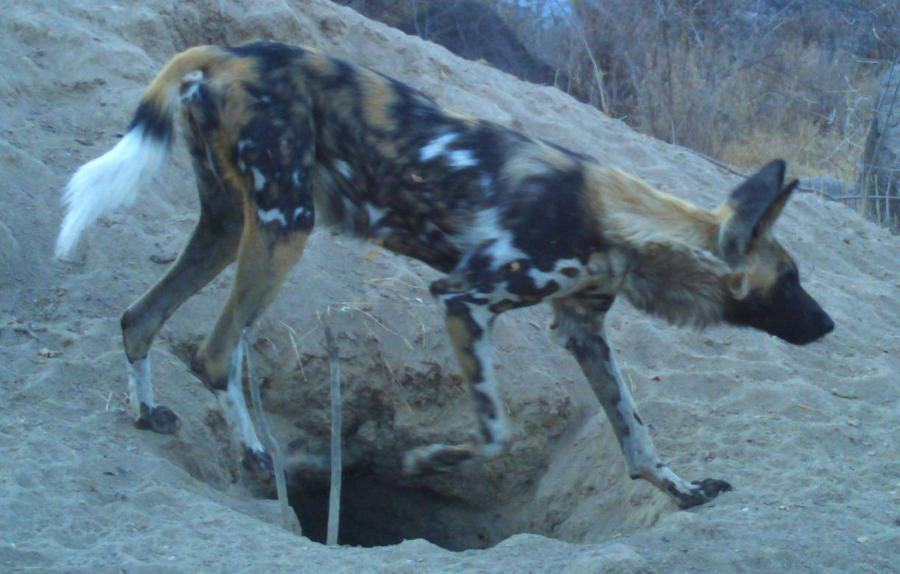wilddog: (1, 1, 900, 574)
